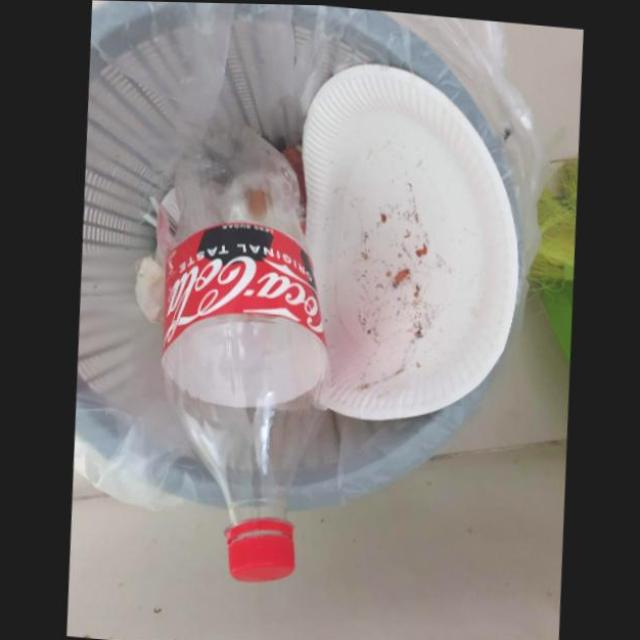carton: (300, 59, 518, 417)
chai_nhua_pet: (158, 125, 328, 580)
giay: (131, 251, 163, 323)
